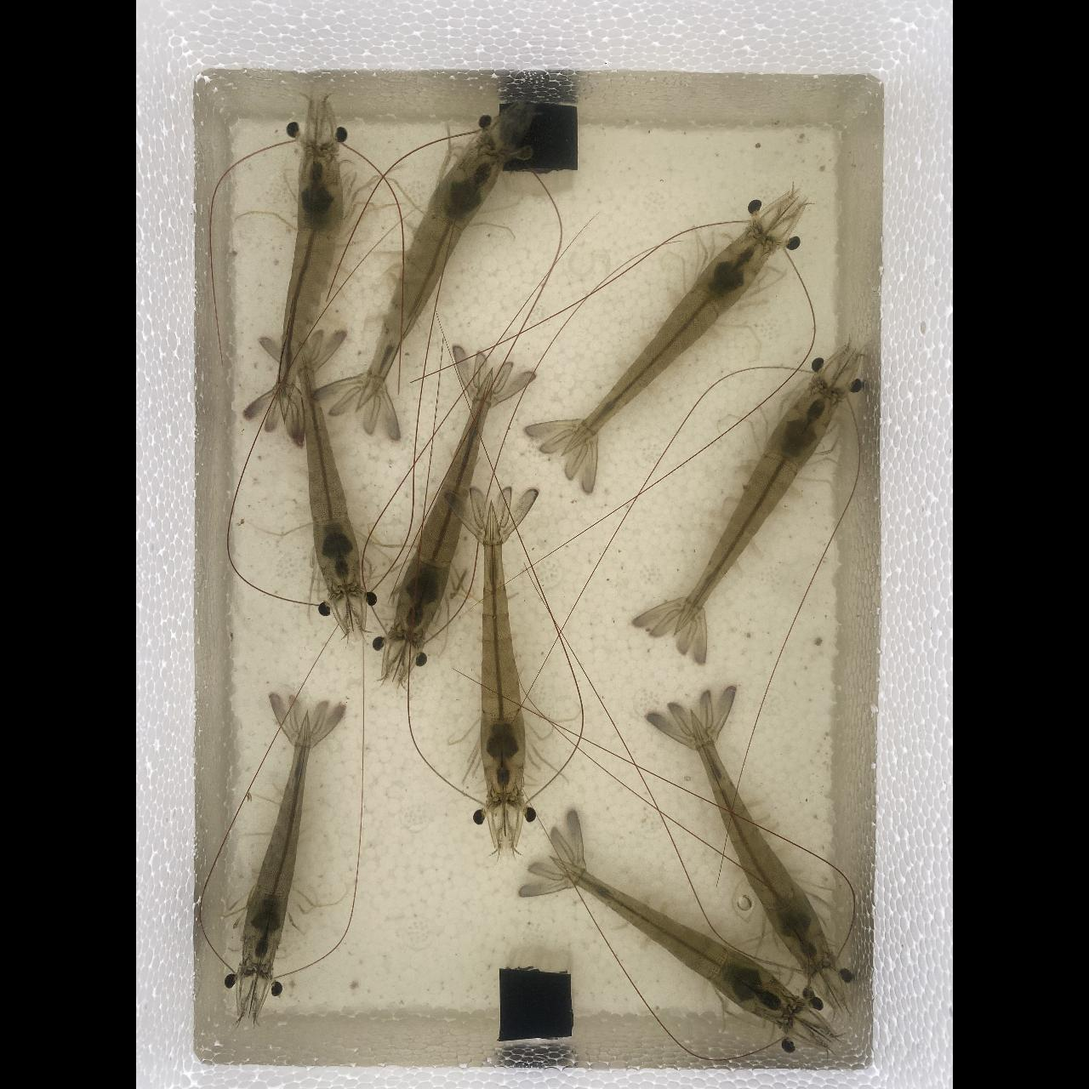box: (499, 100, 579, 172), (499, 968, 572, 1040)
top_shrimp: (568, 231, 771, 453), (676, 385, 837, 628), (560, 856, 795, 1019), (362, 141, 504, 407), (693, 715, 830, 970), (395, 376, 493, 638), (279, 146, 342, 417), (243, 718, 310, 968), (305, 351, 359, 594), (482, 507, 524, 800)
